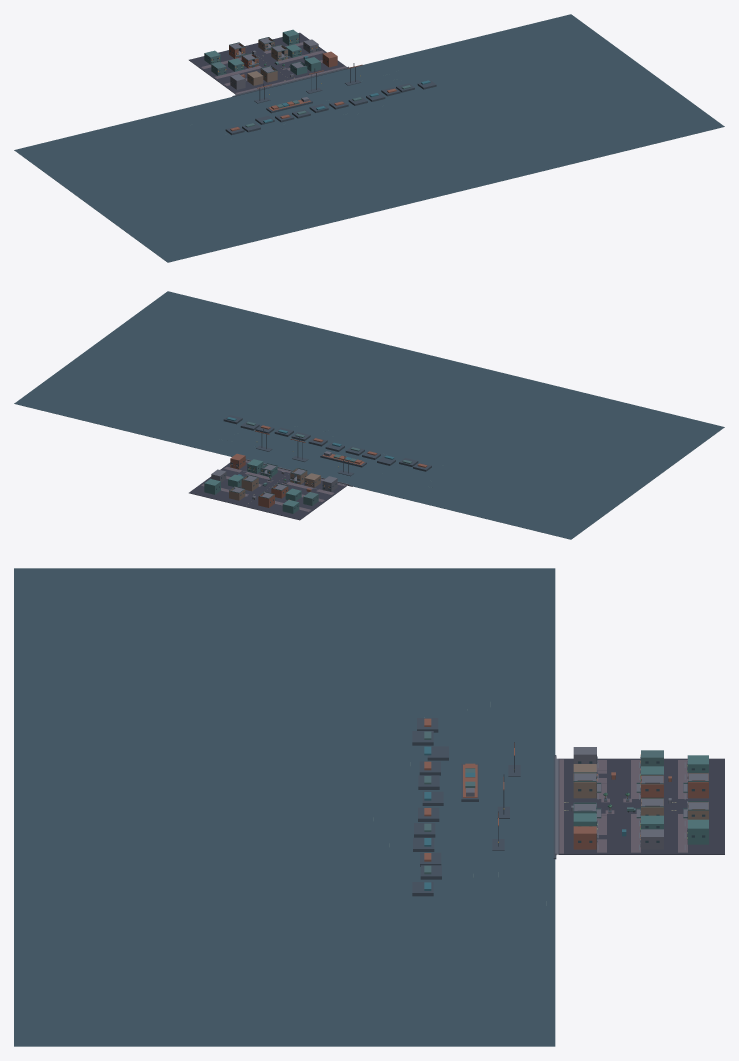
The model's file is harbor-full-low.glb.
The picture shows the model from 3 angles, top to bottom: view 1: azimuth 30°, elevation 25°; view 2: azimuth 150°, elevation 25°; view 3: azimuth 270°, elevation 25°; orthographic projection. The views are drawn at different scales.
Parts seen in each view (by area): view 1: sea, far-harbor, lane-markings, ground-strip-2, ground-strip-0, ground-strip-3, ground-strip-1; view 2: sea, far-harbor, ground-strip-0, ground-strip-2, ground-strip-3, lane-markings, ground-strip-1; view 3: sea, far-harbor, lane-markings, ground-strip-3, ground-strip-1, ground-strip-2, ground-strip-0.
Part boxes in pixels (bbox=[...]): sea: bbox=[14, 14, 724, 262]; far-harbor: bbox=[225, 80, 436, 135]; lane-markings: bbox=[201, 42, 345, 93]; ground-strip-2: bbox=[245, 42, 317, 79]; ground-strip-0: bbox=[189, 56, 261, 94]; ground-strip-3: bbox=[272, 32, 346, 72]; ground-strip-1: bbox=[218, 47, 289, 86]; sea: bbox=[14, 291, 724, 539]; far-harbor: bbox=[223, 415, 431, 471]; ground-strip-0: bbox=[272, 479, 347, 520]; ground-strip-2: bbox=[216, 468, 289, 506]; ground-strip-3: bbox=[189, 461, 248, 499]; lane-markings: bbox=[201, 461, 345, 511]; ground-strip-1: bbox=[244, 473, 305, 513]; sea: bbox=[14, 568, 555, 1046]; far-harbor: bbox=[412, 718, 478, 896]; lane-markings: bbox=[559, 759, 687, 853]; ground-strip-3: bbox=[558, 830, 724, 854]; ground-strip-1: bbox=[558, 782, 724, 806]; ground-strip-2: bbox=[558, 806, 724, 830]; ground-strip-0: bbox=[558, 758, 724, 782].
Size of the model in its own units: 640 by 25.22 by 402.
